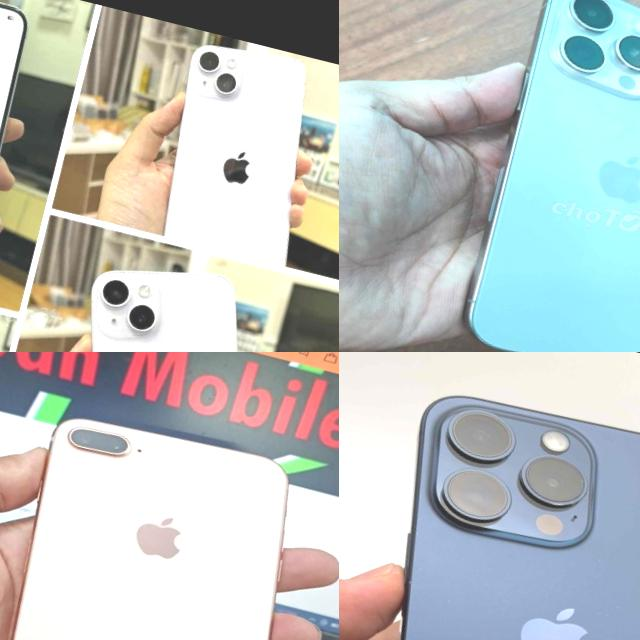gen_14: (140, 28, 339, 277)
gen_15: (339, 370, 640, 640), (438, 0, 640, 352)
gen_7_8: (0, 398, 339, 640)
